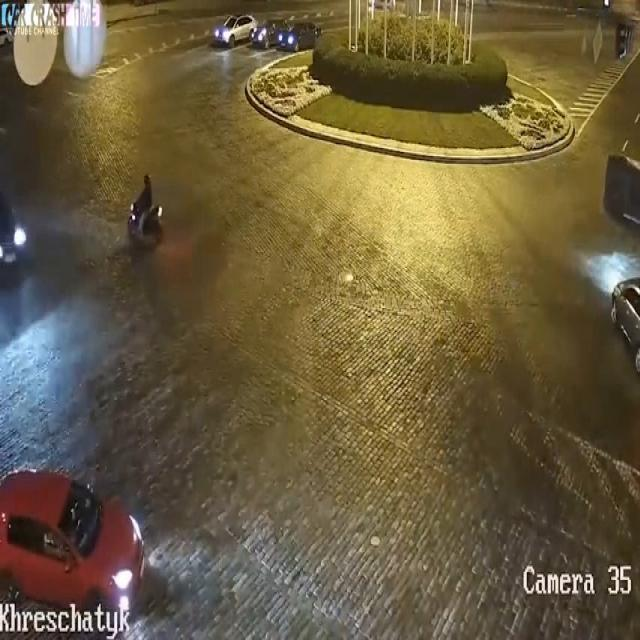Accident: (599, 96, 640, 356)
